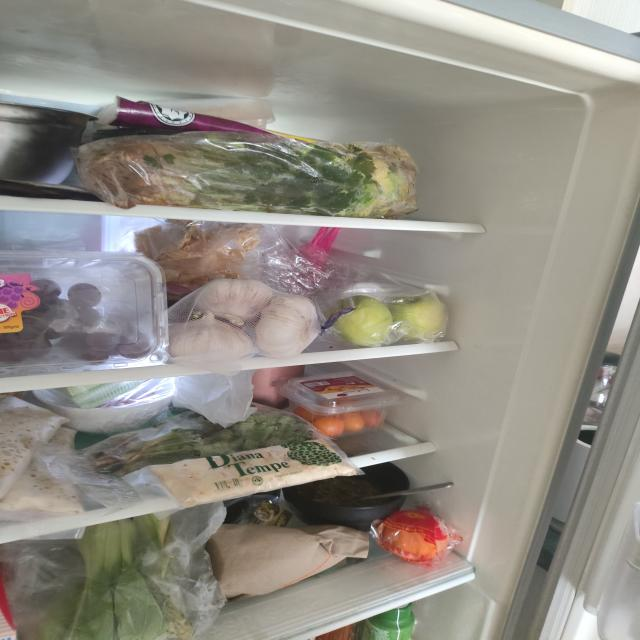apple: (324, 293, 450, 347)
garlic: (168, 277, 322, 359)
grape: (0, 278, 152, 366)
leafy_greens: (75, 131, 416, 219), (94, 404, 316, 476)
orange: (380, 507, 451, 561)
pakchoy: (45, 512, 193, 640)
tempeh: (151, 436, 358, 506), (0, 398, 87, 516)
